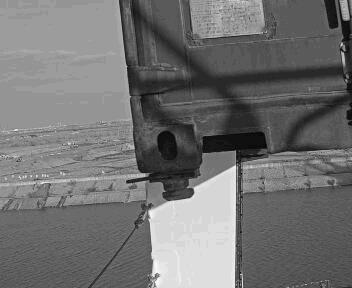twist_lock_1: (172, 161, 233, 206)
